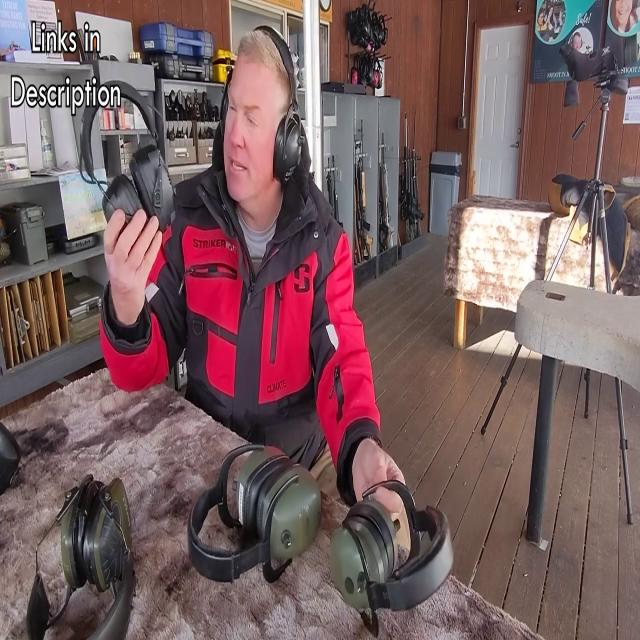earmuff: (273, 110, 308, 192)
